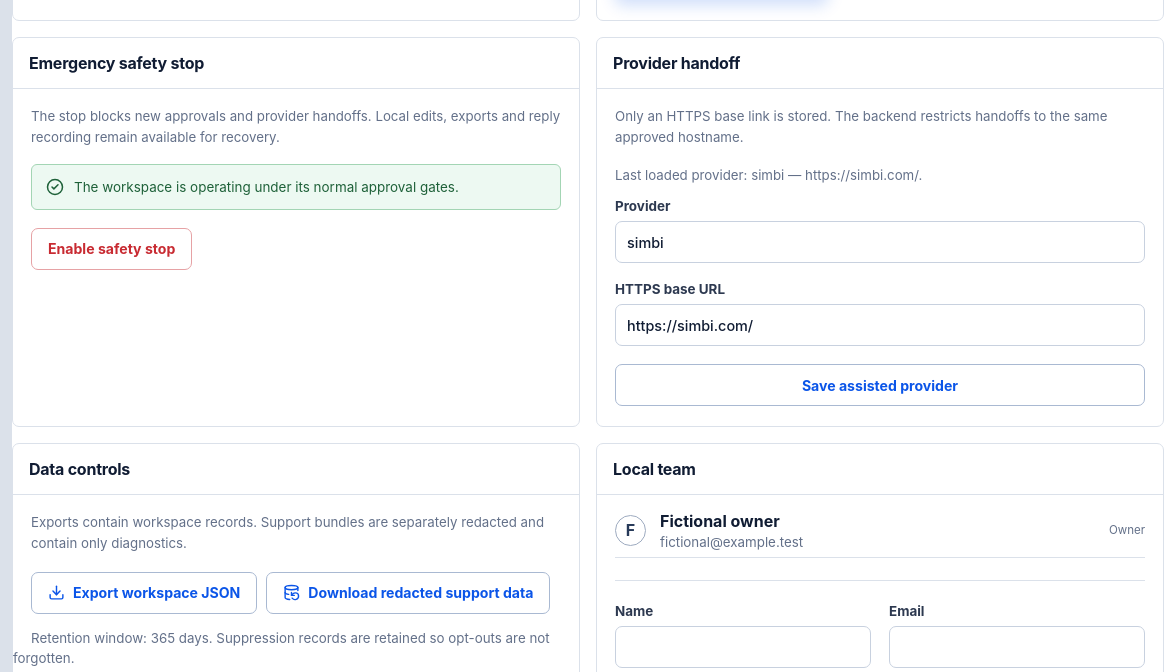
Scenario: shows the normalized provider link only after a verified save without replacing its input element
(page scrolled)
Replace the text in the field labelled "HTTPS base URL" with "https://simbi.com/verified-input#typed". click: (880, 325)
box: [615,304,1145,346]
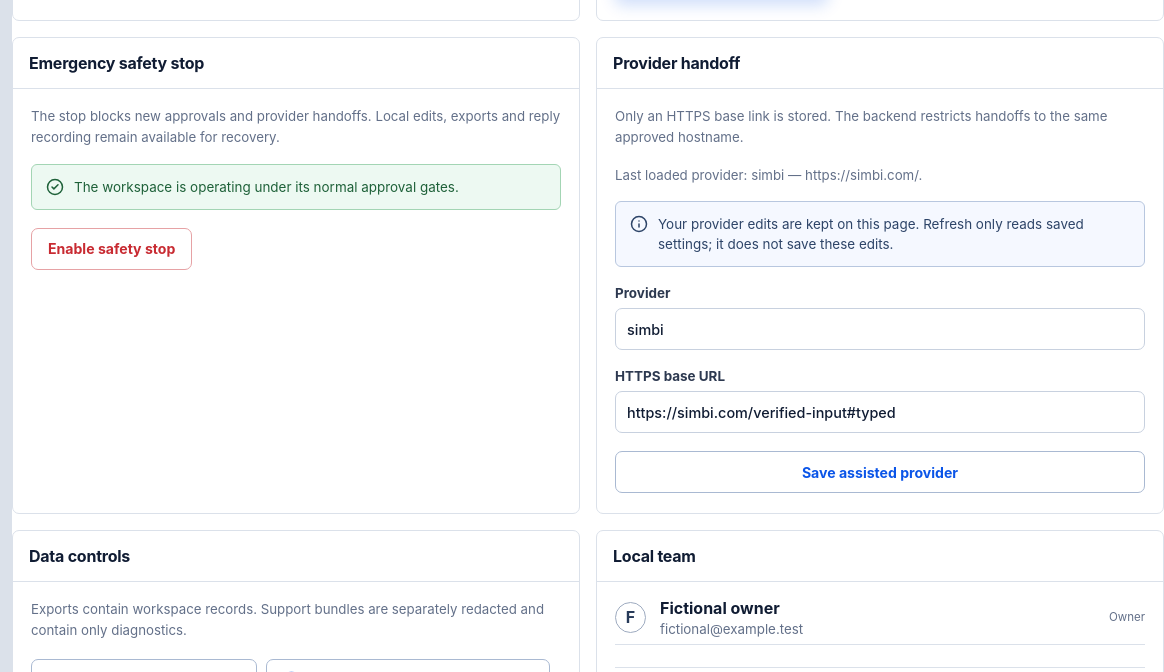
Click the button "Save assisted provider". click: (880, 472)
box: [615,452,1145,494]
(page scrolled)
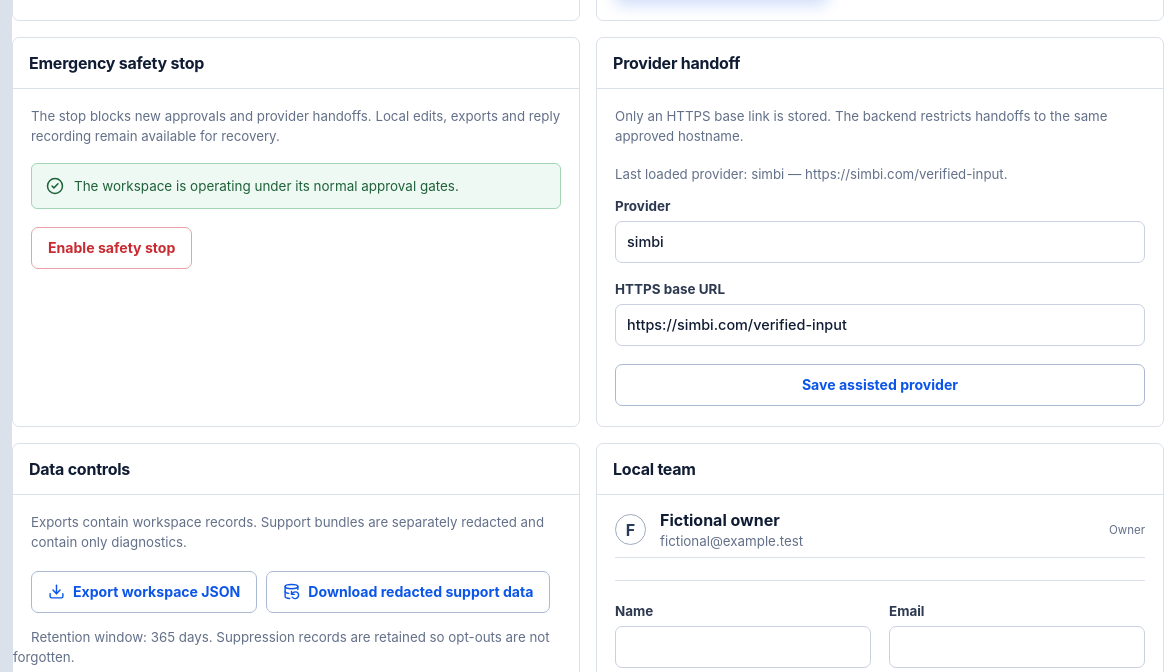
Now the field labelled "HTTPS base URL" holds "https://simbi.com/verified-input", box [615,304,1145,346]
